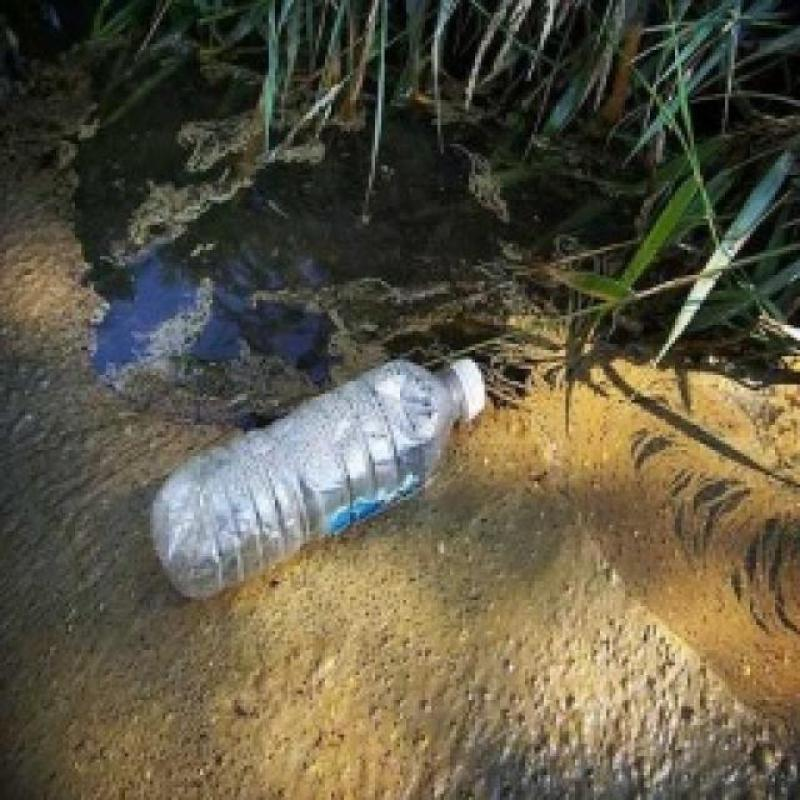botella: (147, 358, 488, 598)
